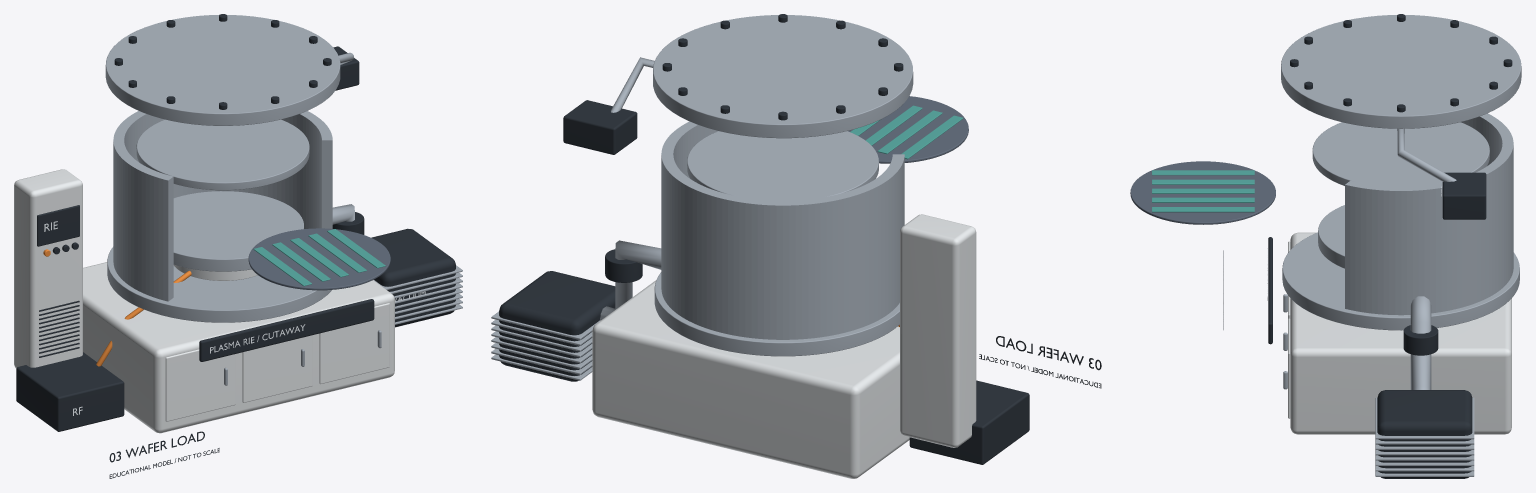
File: rie_03_wafer_load.glb
3 views of the same model, side by side, from view 1: azimuth 30°, elevation 25°; view 2: azimuth 150°, elevation 25°; view 3: azimuth 270°, elevation 25° (orthographic). The views are drawn at different scales.
Visible parts, largest first — view 1: Lid.002, Equipment cabinet.002, Chamber cutaway wall.002, Control console.002, Grounded upper electrode.002, RF powered lower electrode.002, Bottom chamber flange.002, RF generator.002, Wafer.002, Vacuum pump.002, Service access panel.006, Caption panel.002 (+10 smaller); view 2: Chamber cutaway wall.002, Equipment cabinet.002, Lid.002, Control console.002, Grounded upper electrode.002, Vacuum pump.002, Bottom chamber flange.002, RF generator.002, Wafer.002, Mass flow module.002, Exhaust line.002, Exhaust valve.002; view 3: Lid.002, Chamber cutaway wall.002, Equipment cabinet.002, Grounded upper electrode.002, Bottom chamber flange.002, Vacuum pump.002, Wafer.002, Mass flow module.002, Exhaust line.002, RF powered lower electrode.002, Exhaust valve.002, Gas supply pipe.002 (+14 smaller).
Part boxes in pixels (box(x1,y1,x2,y2)): Lid.002: box(105, 14, 340, 125); Equipment cabinet.002: box(83, 262, 394, 433); Chamber cutaway wall.002: box(113, 111, 332, 301); Control console.002: box(14, 169, 82, 368); Grounded upper electrode.002: box(136, 119, 309, 190); RF powered lower electrode.002: box(173, 191, 303, 271); Bottom chamber flange.002: box(107, 247, 331, 322); RF generator.002: box(16, 352, 124, 431); Wafer.002: box(248, 228, 390, 290); Vacuum pump.002: box(371, 228, 455, 327); Service access panel.006: box(165, 349, 235, 421); Caption panel.002: box(199, 299, 374, 361); Chamber cutaway wall.002: box(661, 121, 904, 339); Equipment cabinet.002: box(592, 280, 909, 478); Lid.002: box(653, 15, 913, 138); Control console.002: box(900, 214, 976, 447); Grounded upper electrode.002: box(687, 131, 878, 200); Vacuum pump.002: box(499, 271, 615, 381); Bottom chamber flange.002: box(654, 272, 899, 356); RF generator.002: box(909, 380, 1029, 464); Wafer.002: box(848, 96, 968, 163); Mass flow module.002: box(563, 100, 637, 154); Exhaust line.002: box(600, 240, 661, 320); Exhaust valve.002: box(605, 249, 642, 282); Lid.002: box(1281, 15, 1521, 128); Chamber cutaway wall.002: box(1345, 113, 1513, 315); Equipment cabinet.002: box(1290, 232, 1511, 434); Grounded upper electrode.002: box(1312, 122, 1489, 186); Bottom chamber flange.002: box(1282, 232, 1519, 330); Vacuum pump.002: box(1377, 390, 1472, 478); Wafer.002: box(1130, 161, 1275, 224); Mass flow module.002: box(1442, 172, 1486, 219); Exhaust line.002: box(1410, 296, 1431, 389); RF powered lower electrode.002: box(1318, 205, 1344, 268); Exhaust valve.002: box(1403, 325, 1438, 355); Gas supply pipe.002: box(1397, 128, 1456, 181).
Size of the model in its own units: 6.39 by 4.4 by 4.94.
